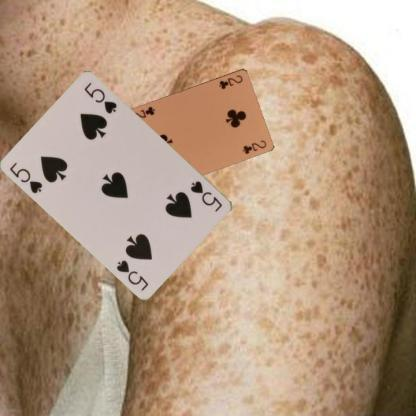2c: (216, 72, 244, 90)
5s: (7, 160, 44, 195), (188, 178, 224, 213)
